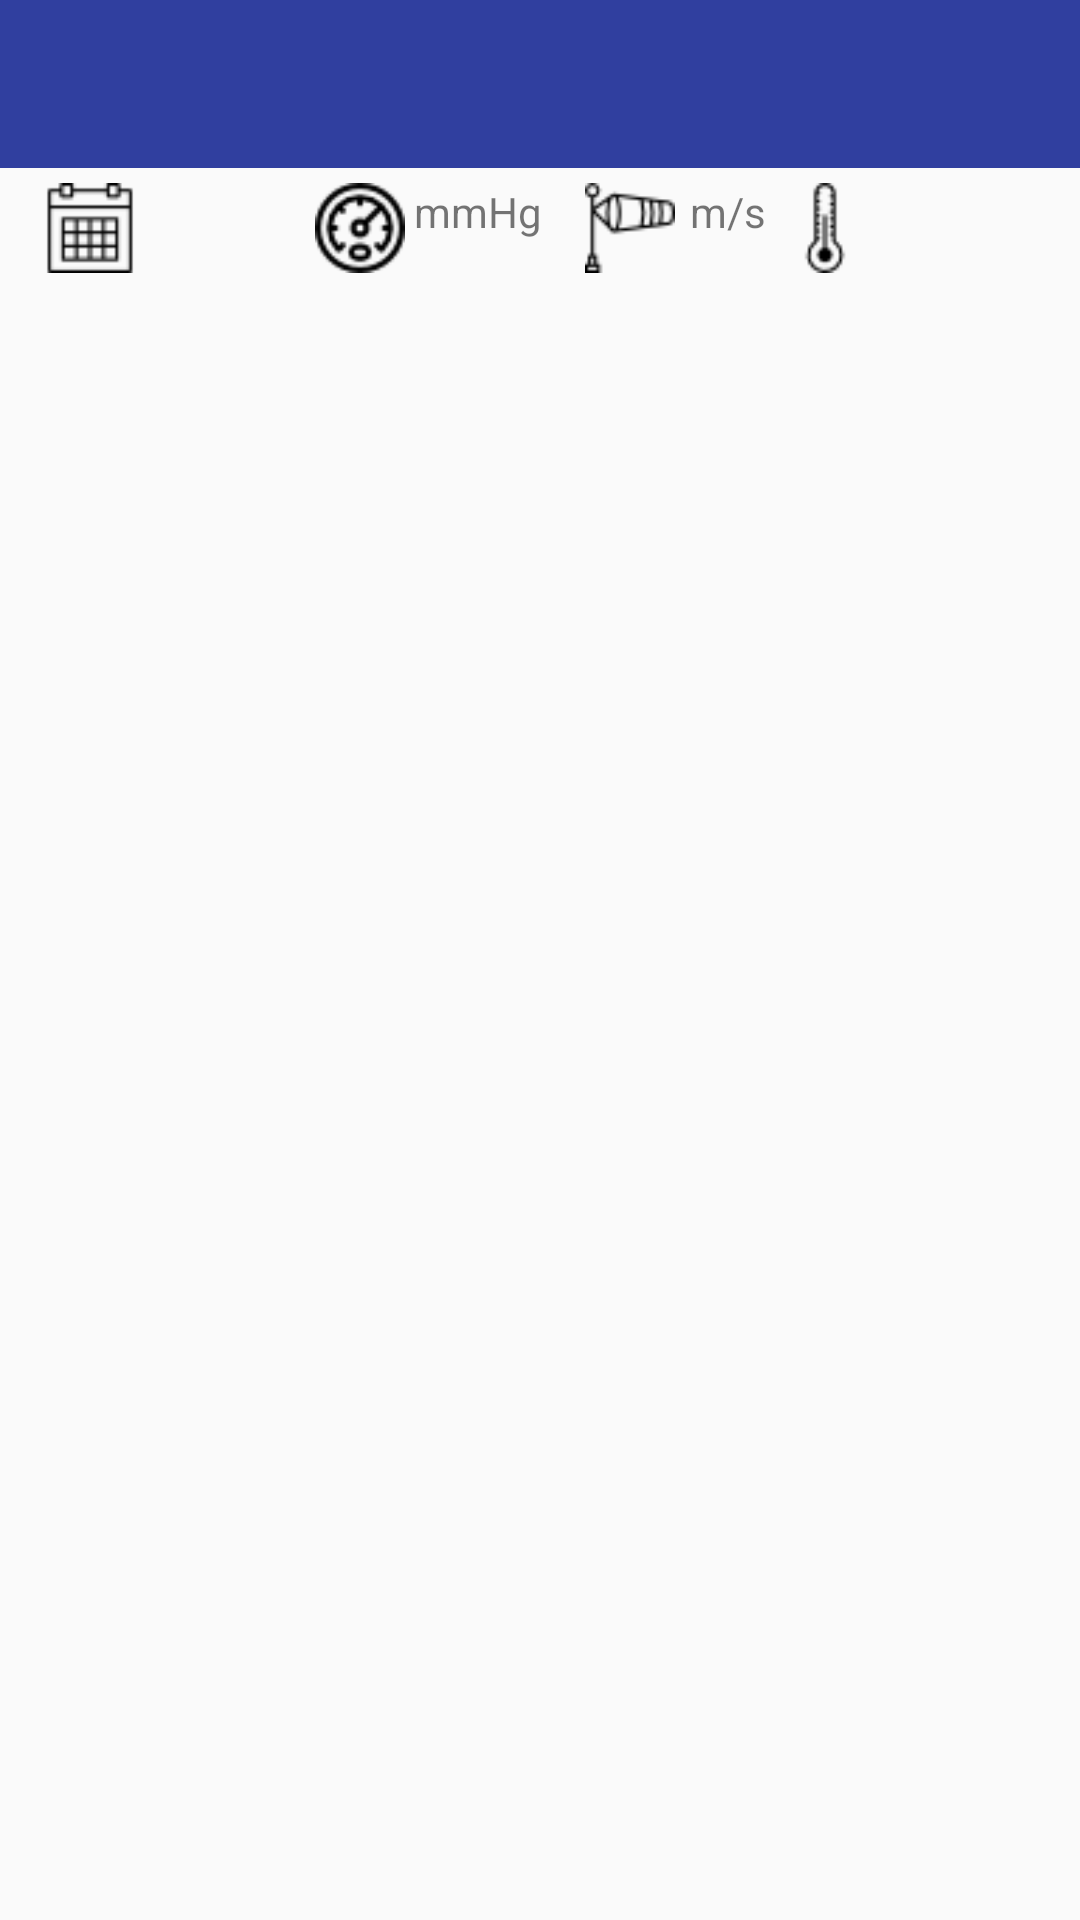

Where to tap for icons on this 1080 x 1920 app screen, as (x=x, y=y):
calendar: (x=90, y=228)
pressure: (x=360, y=228)
temperature: (x=825, y=228)
wind: (x=630, y=228)
